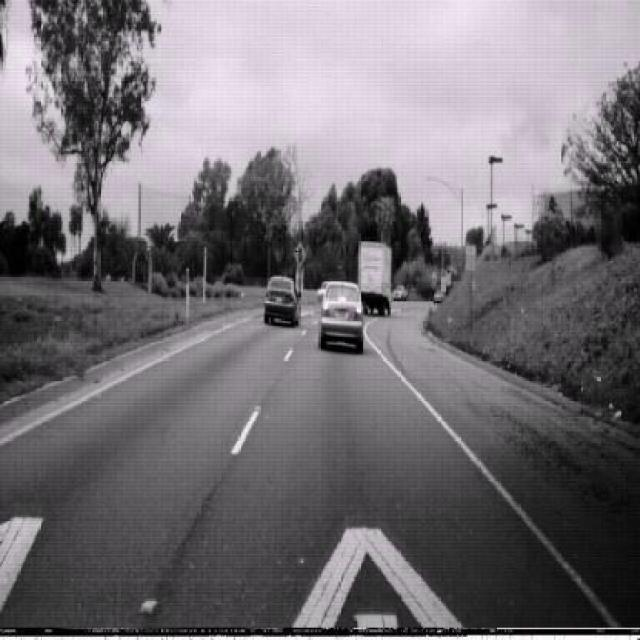merge: (292, 240, 308, 268)
